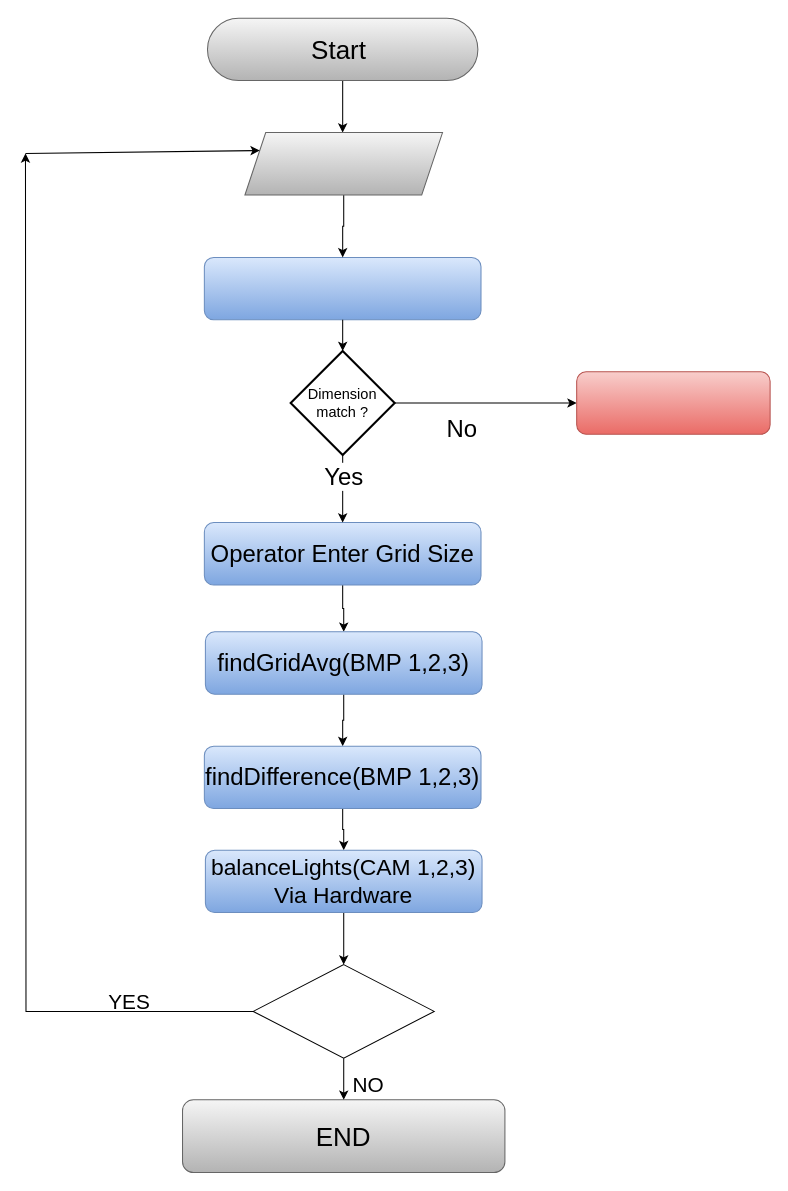
The diagram is 788 pixels wide and 1191 high, and some of its shapes have lost their labels. Here are the shapes that lost their labels. From the top down, the centre of each, then its label:
At point (343, 163): "Capture Frames From Cameras".
At point (342, 288): "Load Into Bitmaps".
At point (673, 402): "Show Error".
At point (343, 1011): "While Error >1".
